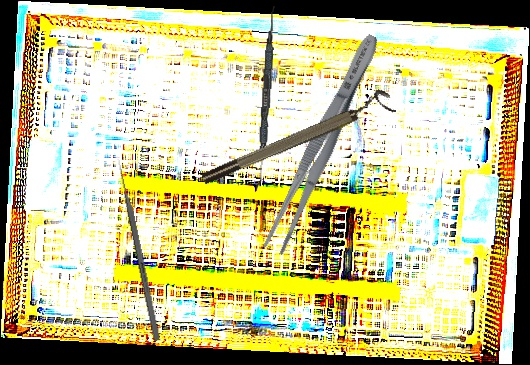Dressing Forceps: (259, 29, 387, 258)
Fixation Ring: (196, 86, 397, 188)
Pusher: (115, 157, 161, 342)
Spatula Surgical: (256, 5, 276, 191)
